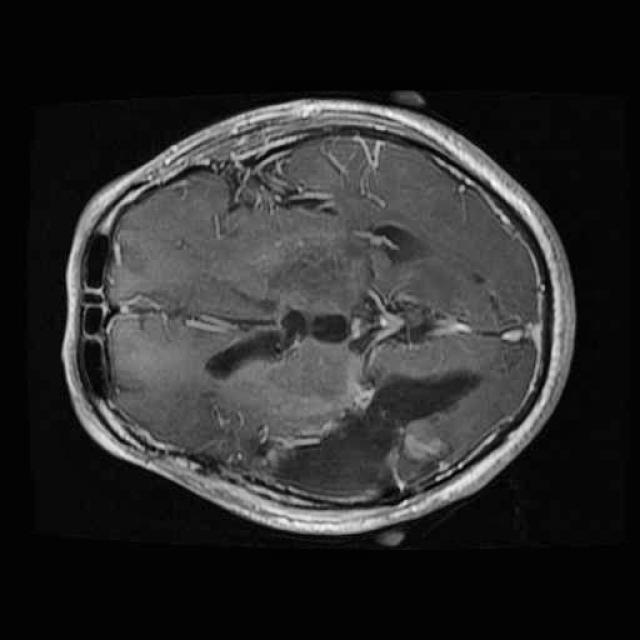Non-Tumor: (261, 360, 490, 506)
